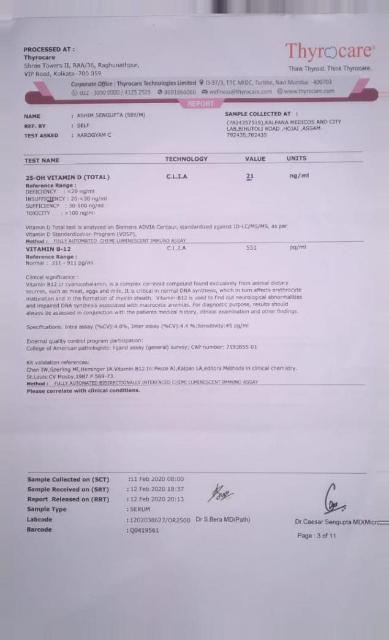Name: (76, 111, 147, 119)
Ref_By: (75, 122, 93, 129)
Technology: (164, 171, 195, 184), (165, 244, 195, 254)
Test_Asked: (76, 130, 116, 139)
Test_Name: (25, 171, 116, 221), (23, 244, 101, 272)
Value: (288, 171, 313, 183), (244, 171, 259, 185), (245, 243, 261, 254)
